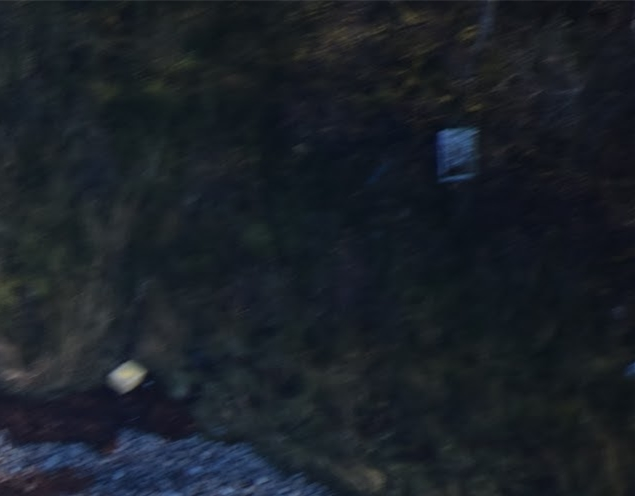cuboid: (427, 117, 492, 187), (99, 343, 153, 403)
